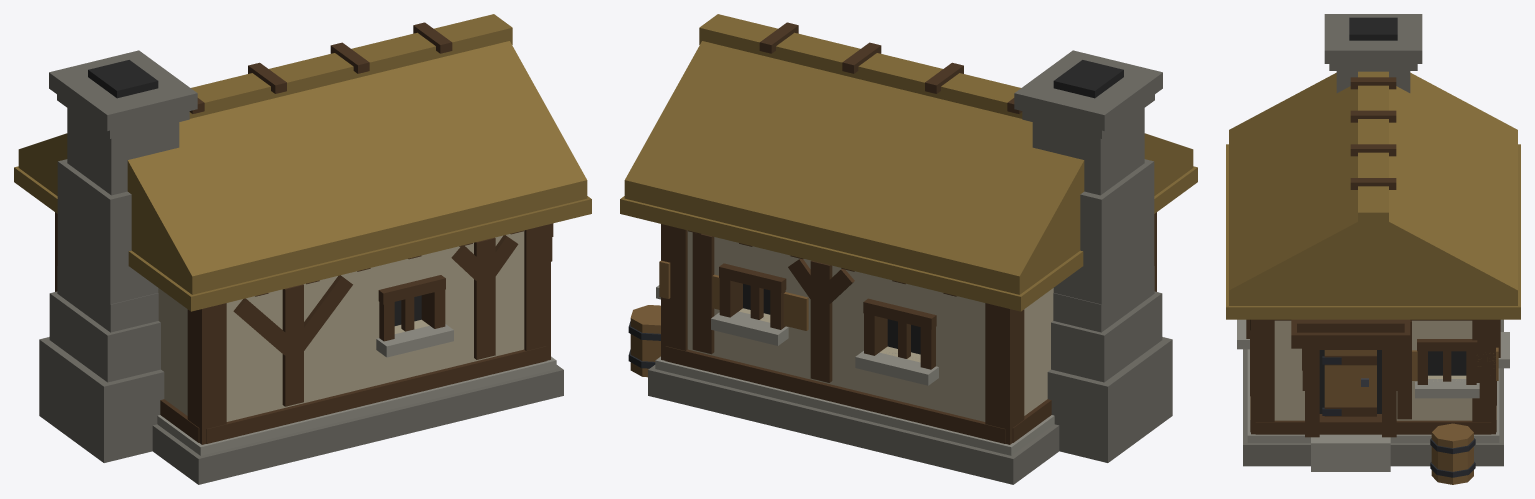
File: cottage_a.glb
3 views of the same model, side by side, from view 1: azimuth 30°, elevation 25°; view 2: azimuth 150°, elevation 25°; view 3: azimuth 270°, elevation 25° (orthographic). The views are drawn at different scales.
Visible parts, largest first — view 1: thatch, stone, timber, plaster, stone_light, soot; view 2: thatch, stone, timber, plaster, stone_light, timber_light, soot; view 3: thatch, timber, stone, stone_light, plaster, timber_light, soot, iron_dark.
Boxes of the visible parts, left/top/right/bottom form: thatch: left=14, top=14, right=591, bottom=311; stone: left=39, top=50, right=563, bottom=484; timber: left=55, top=22, right=553, bottom=444; plaster: left=158, top=230, right=524, bottom=421; stone_light: left=157, top=324, right=556, bottom=455; soot: left=88, top=60, right=421, bottom=325; thatch: left=620, top=14, right=1197, bottom=311; stone: left=648, top=50, right=1172, bottom=484; timber: left=661, top=22, right=1156, bottom=444; plaster: left=687, top=230, right=1053, bottom=421; stone_light: left=655, top=285, right=1054, bottom=455; timber_light: left=630, top=260, right=808, bottom=377; soot: left=743, top=60, right=1123, bottom=354; thatch: left=1226, top=71, right=1520, bottom=319; timber: left=1246, top=77, right=1500, bottom=437; stone: left=1243, top=14, right=1503, bottom=466; stone_light: left=1237, top=319, right=1509, bottom=471; plaster: left=1274, top=320, right=1472, bottom=420; timber_light: left=1324, top=347, right=1498, bottom=484; soot: left=1319, top=17, right=1466, bottom=413; iron_dark: left=1322, top=356, right=1475, bottom=477.
Bounding box in the file's own units: 78.25 × 57 × 52.
